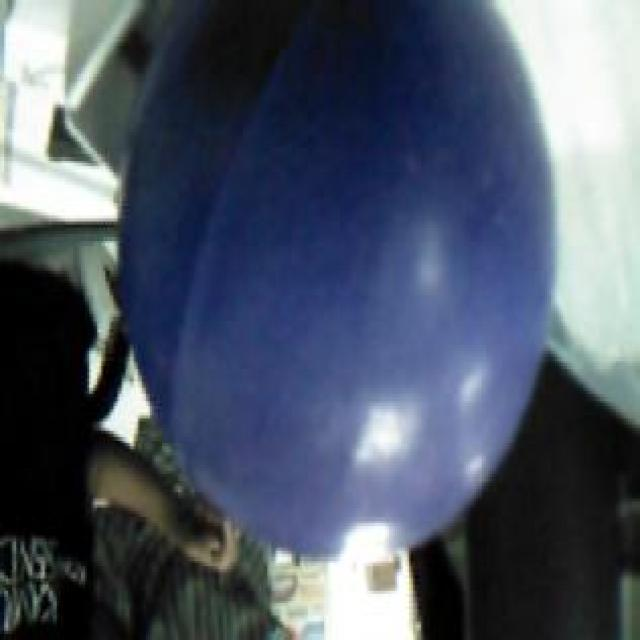BallPurple: (117, 0, 553, 557)
